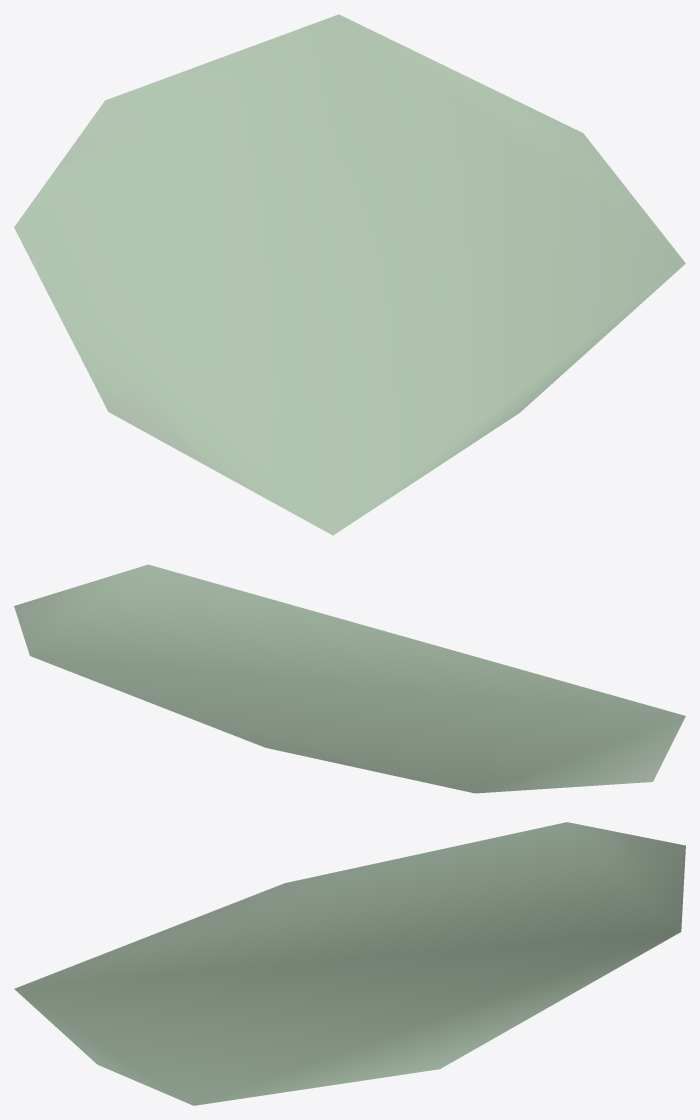
The model's file is TROLLHOLE02_HOLECAP201.fbx.
The picture shows the model from 3 angles, top to bottom: view 1: azimuth 30°, elevation 25°; view 2: azimuth 150°, elevation 25°; view 3: azimuth 270°, elevation 25°; orthographic projection. The views are drawn at different scales.
Parts seen in each view (by area): view 1: TROLLHOLE02_HOLECAP201; view 2: TROLLHOLE02_HOLECAP201; view 3: TROLLHOLE02_HOLECAP201.
Boxes of the visible parts, x1,y1,x2,y2 form: TROLLHOLE02_HOLECAP201: [14, 14, 685, 535]; TROLLHOLE02_HOLECAP201: [14, 564, 685, 793]; TROLLHOLE02_HOLECAP201: [14, 822, 685, 1105].
Size of the model in its own units: 11370 by 4186 by 11437.
Materials: 1 (1 with a texture image).
